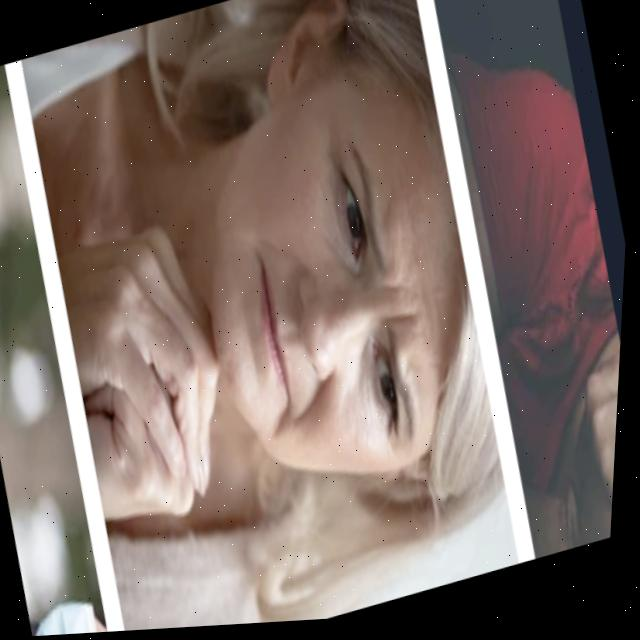sad: (151, 0, 523, 526)
